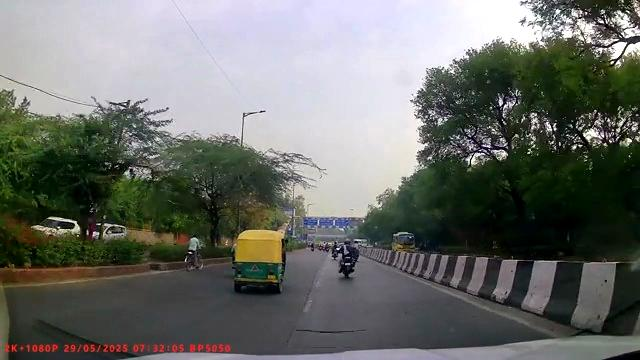motorcycle_with_helmet: (337, 238, 360, 279)
